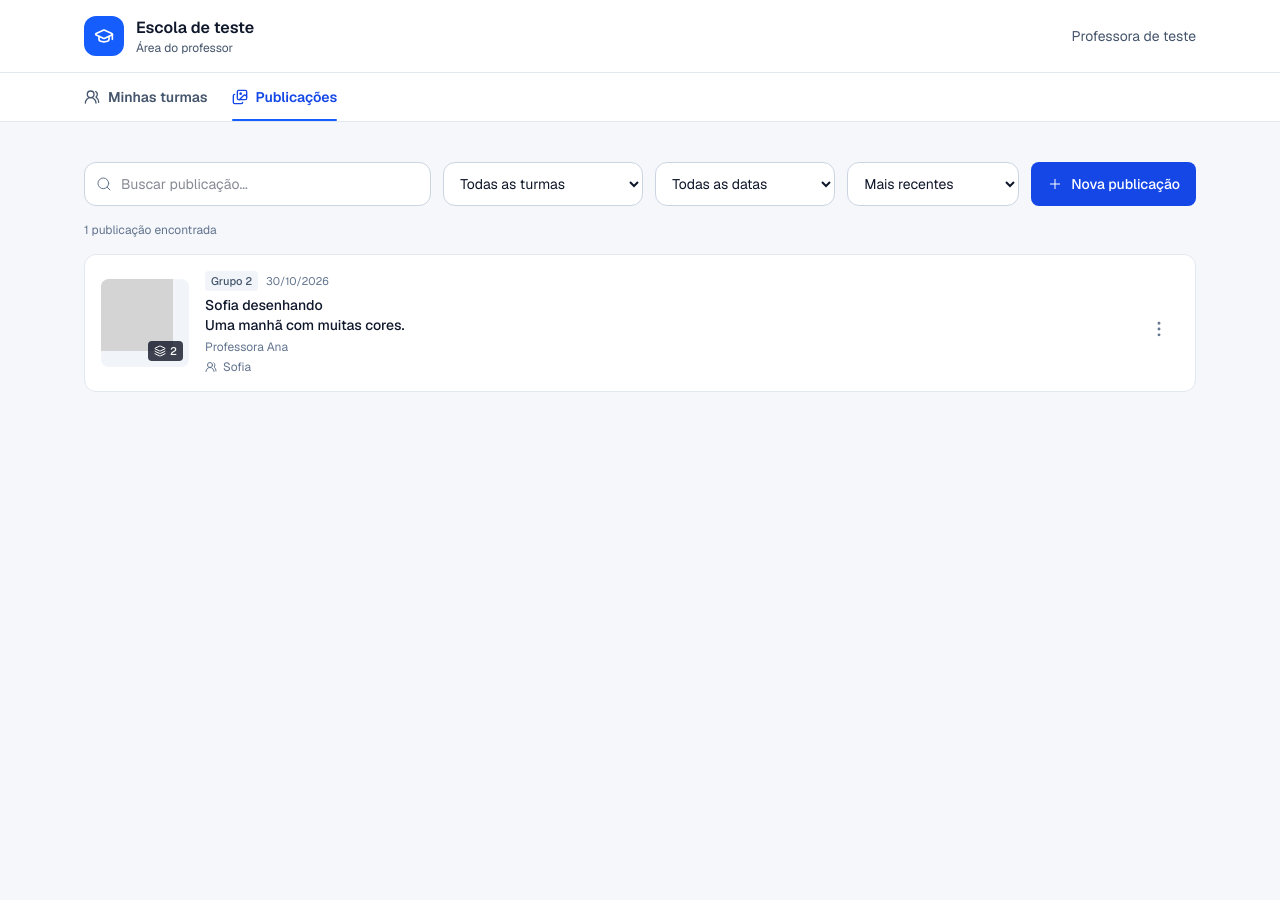
it: workspace integrated with existing API contracts › requires confirmation before deleting only the publication endpoint
Click the button named "Ações da publicação: Sofia". click: (1159, 329)
box: [1139, 309, 1179, 349]
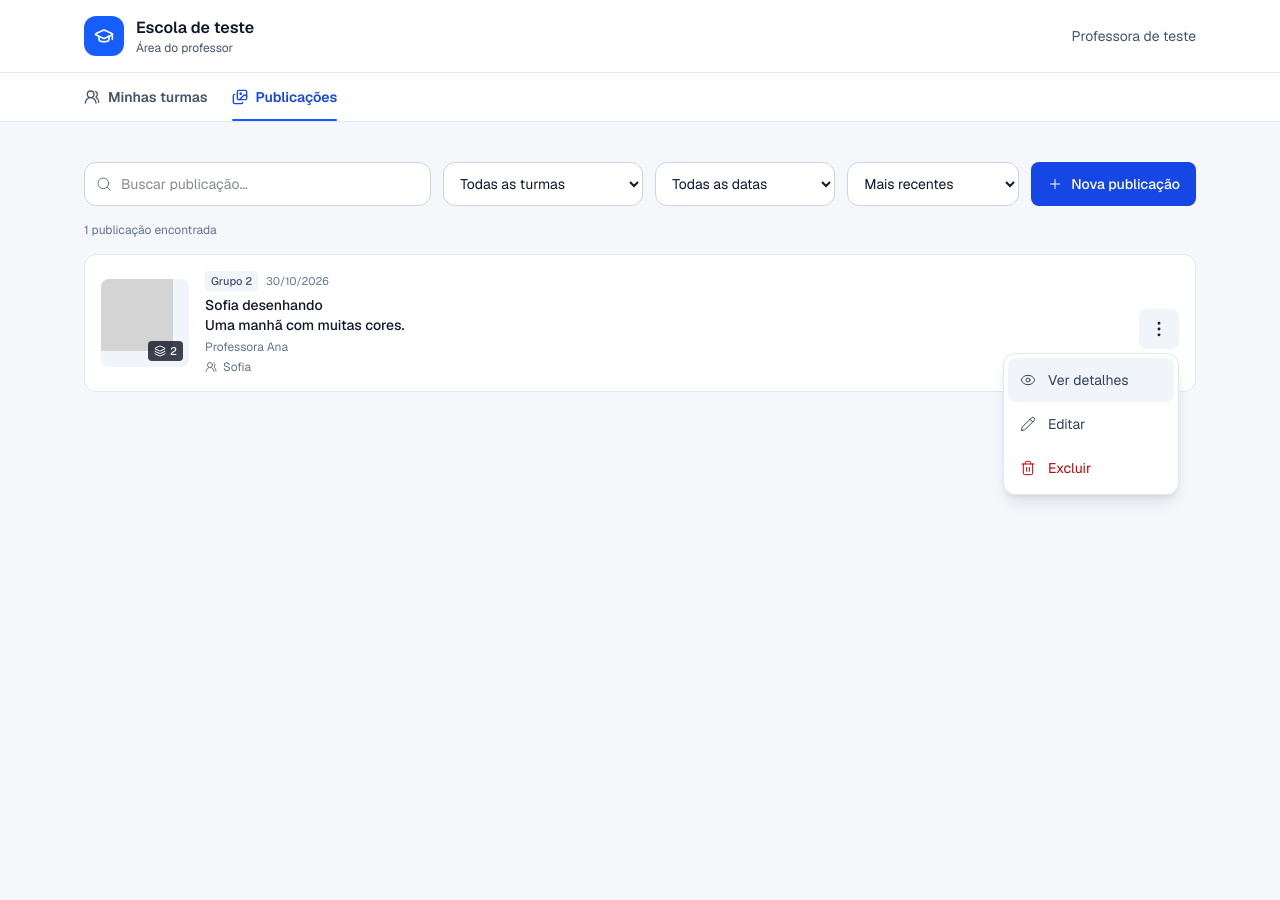
Click the menu item "Excluir". click: (1091, 468)
box: [1008, 446, 1174, 490]
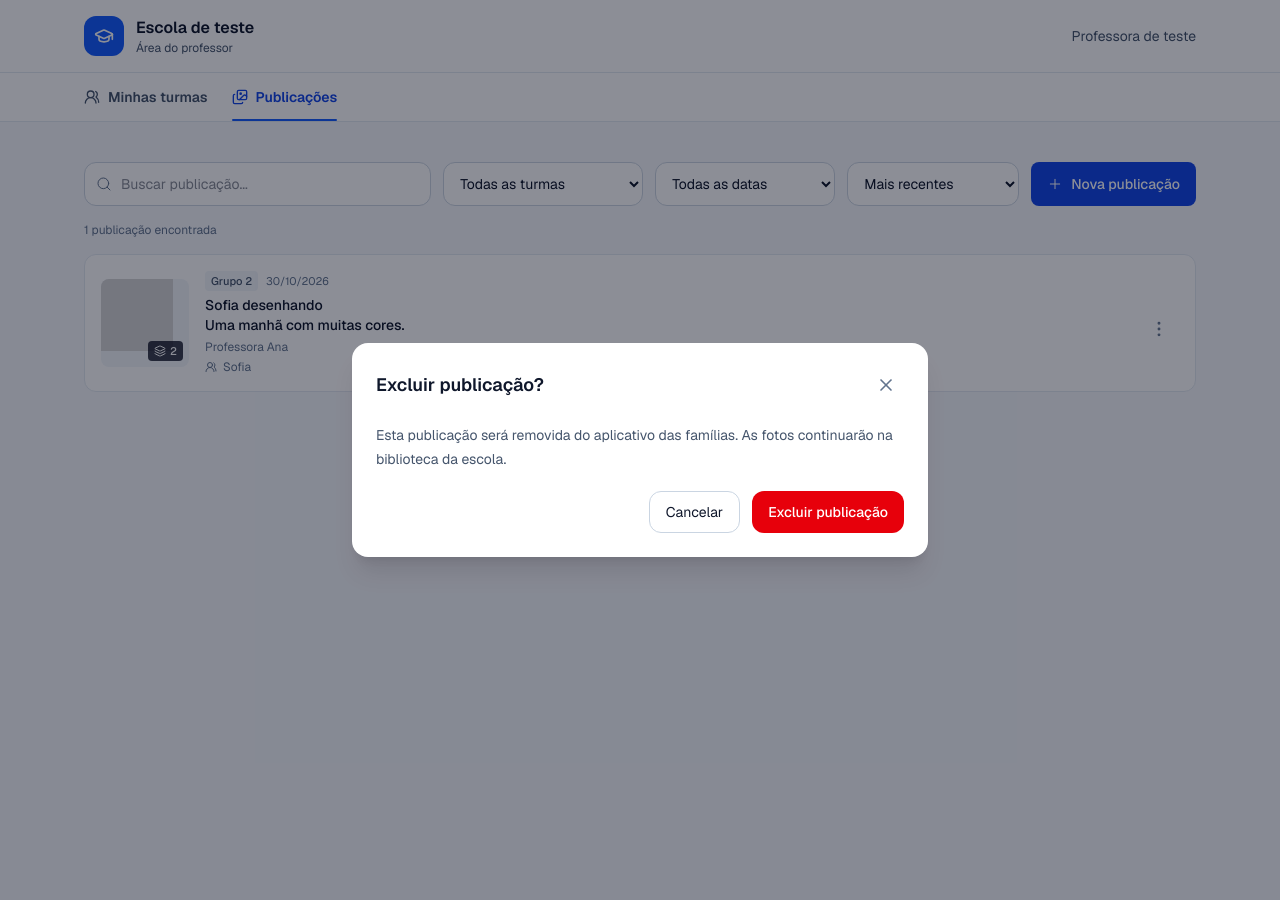
Check: the dialog shows "As fotos continuarão na biblioteca da escola.", box [376, 426, 893, 468]
Click the button "Cancelar". click: (694, 512)
box: [649, 491, 740, 533]
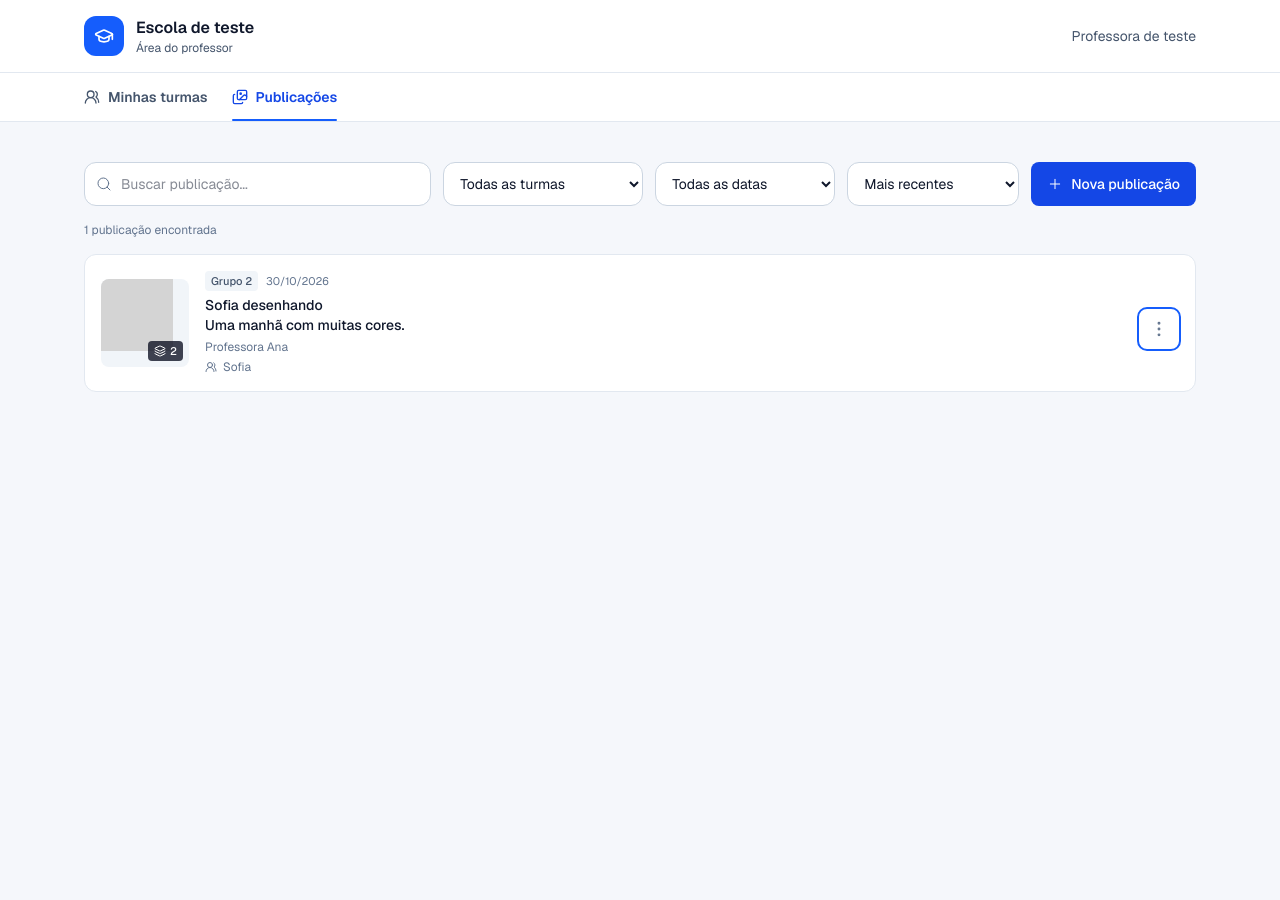
Click the button named "Ações da publicação: Sofia". click: (1159, 329)
box: [1139, 309, 1179, 349]
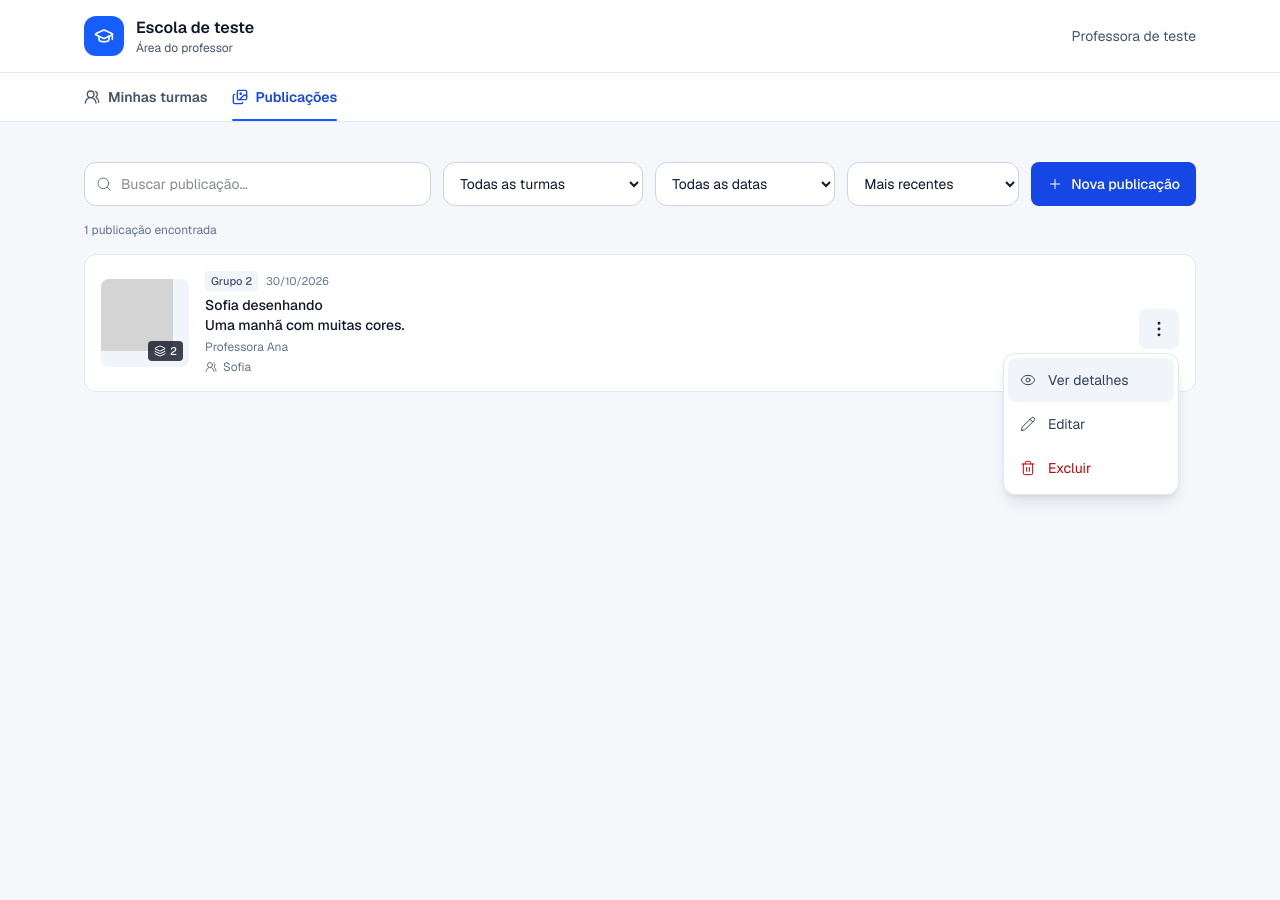
Click the menu item "Excluir". click: (1091, 468)
box: [1008, 446, 1174, 490]
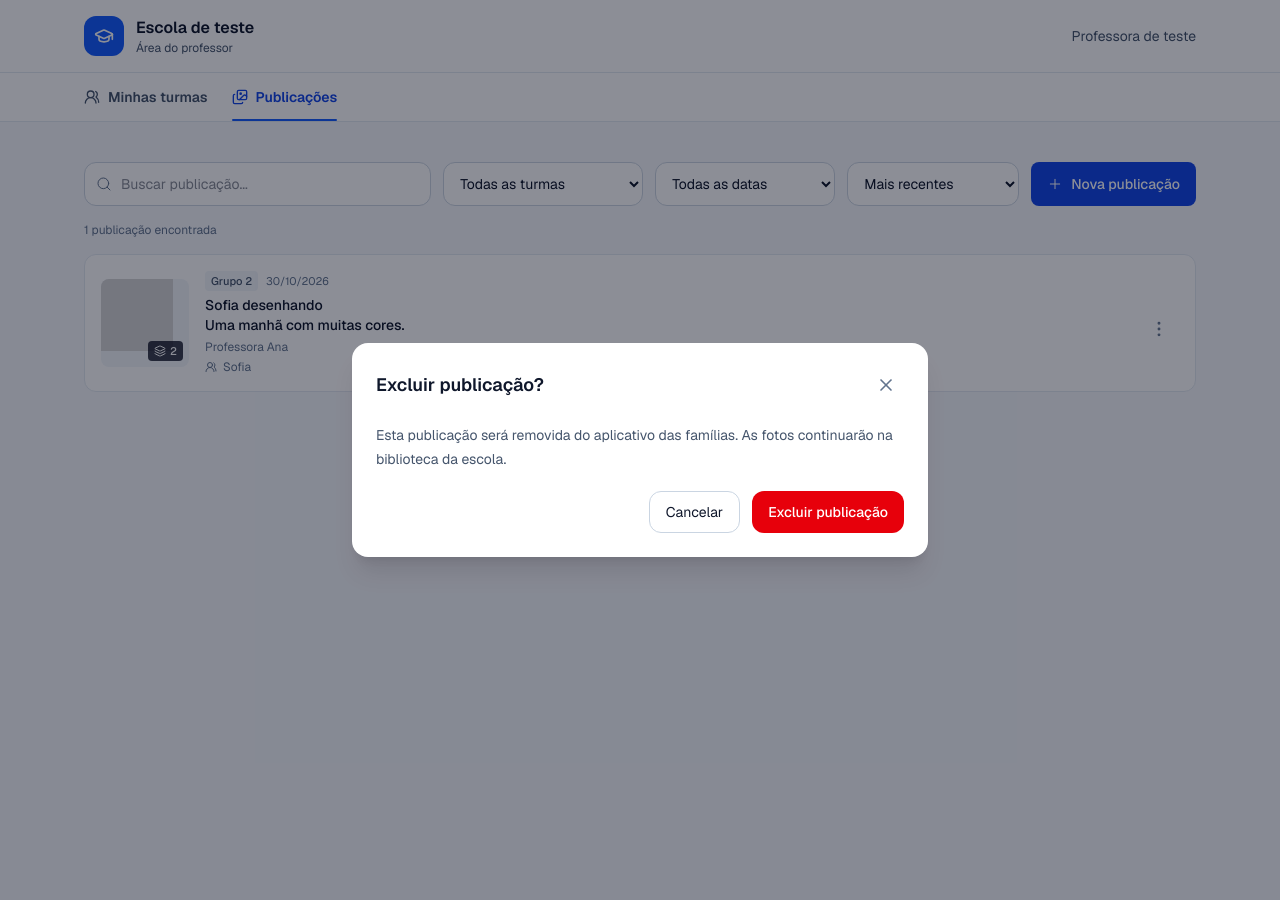
Click the button "Excluir publicação". click: (828, 512)
box: [752, 491, 904, 533]
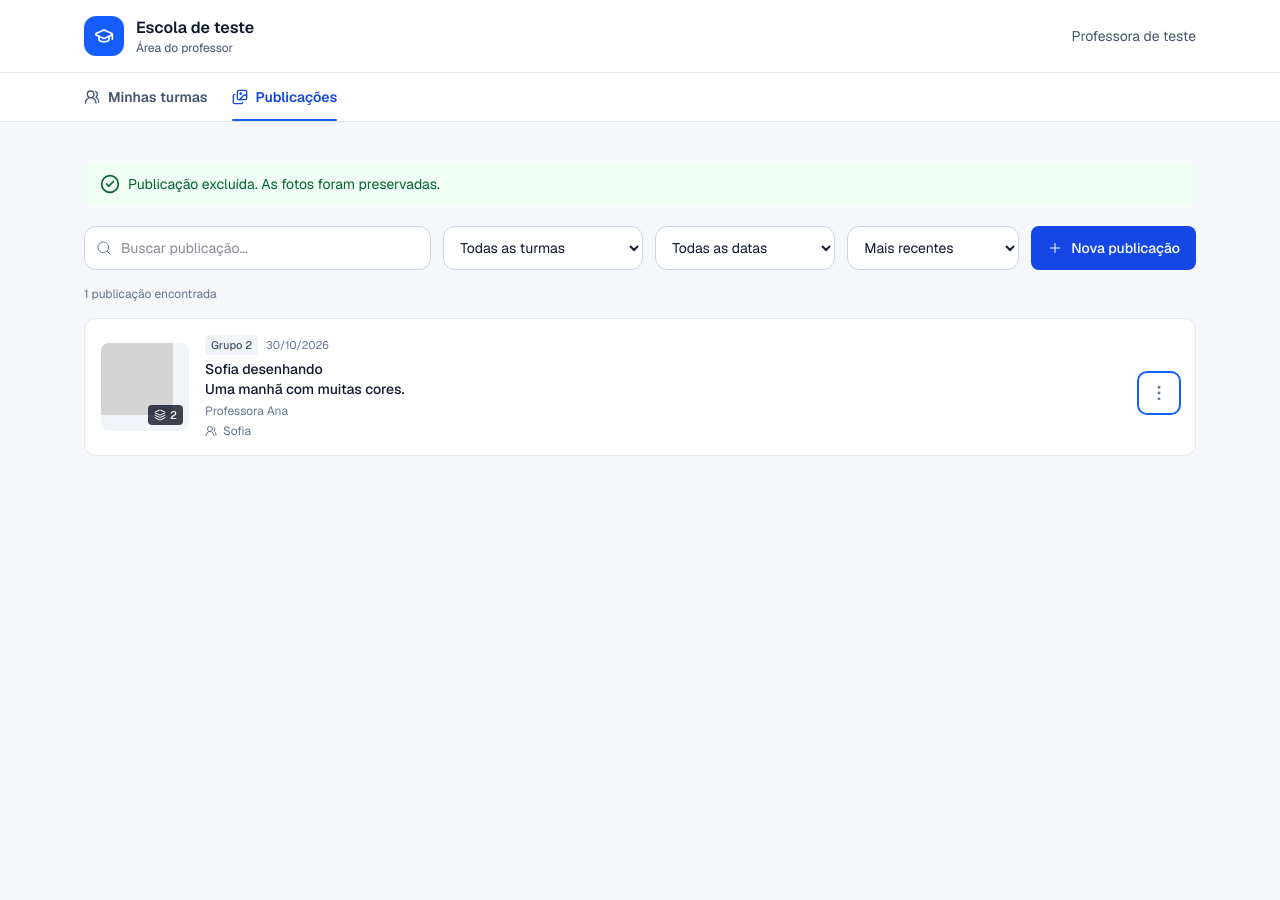
Check: the text "Publicação excluída. As fotos foram preservadas." is shown, box [84, 162, 1196, 206]
